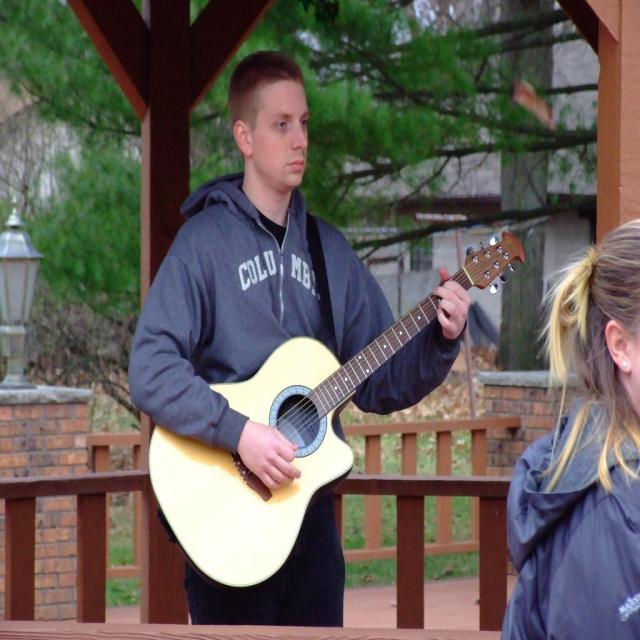guitar: (147, 222, 527, 598)
